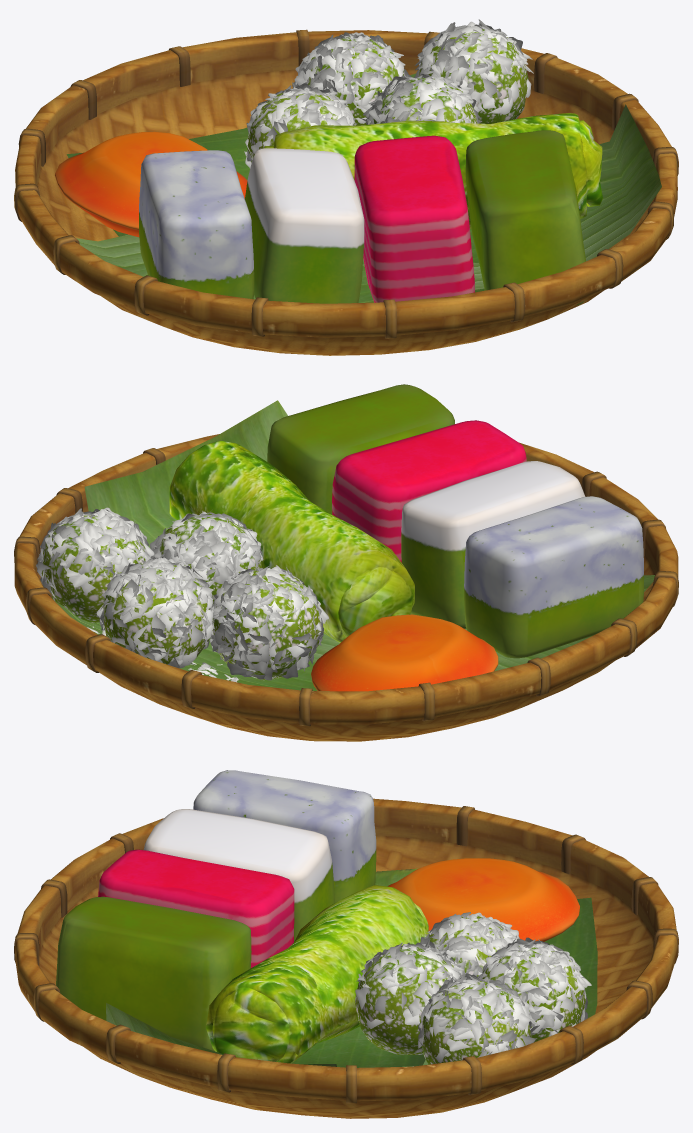
Rendered from F009_TraditionalNyonyaKueh.fbx.
3 renders of one model, top to bottom at view 1: azimuth 30°, elevation 25°; view 2: azimuth 150°, elevation 25°; view 3: azimuth 270°, elevation 25°, orthographic. The views are drawn at different scales.
Parts seen in each view (by area): view 1: F009_TraditionalNyonyaKueh_Food, F009_TraditionalNyonyaKueh_Plate; view 2: F009_TraditionalNyonyaKueh_Food, F009_TraditionalNyonyaKueh_Plate; view 3: F009_TraditionalNyonyaKueh_Food, F009_TraditionalNyonyaKueh_Plate.
Part boxes in pixels (box(x1,y1,x2,y2)): F009_TraditionalNyonyaKueh_Food: box(54, 19, 602, 305); F009_TraditionalNyonyaKueh_Plate: box(14, 29, 678, 355); F009_TraditionalNyonyaKueh_Food: box(36, 384, 644, 691); F009_TraditionalNyonyaKueh_Plate: box(14, 400, 678, 741); F009_TraditionalNyonyaKueh_Food: box(56, 770, 591, 1066); F009_TraditionalNyonyaKueh_Plate: box(14, 798, 678, 1118).
Size of the model in its own units: 114 by 30.93 by 114.
